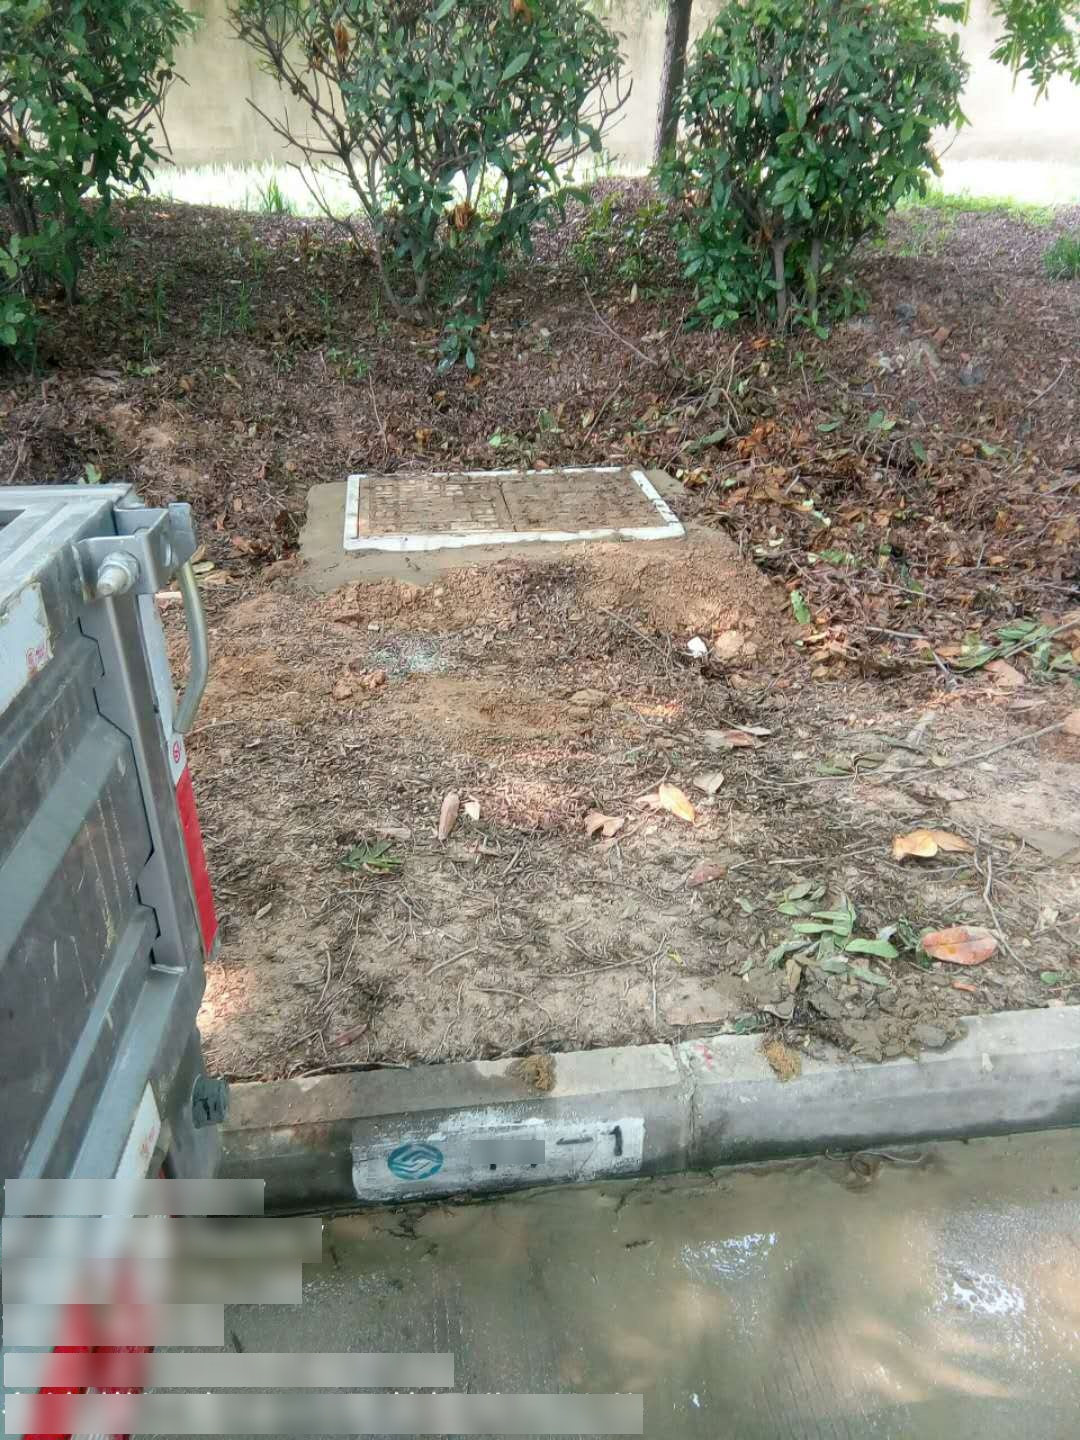good: (344, 465, 687, 553)
